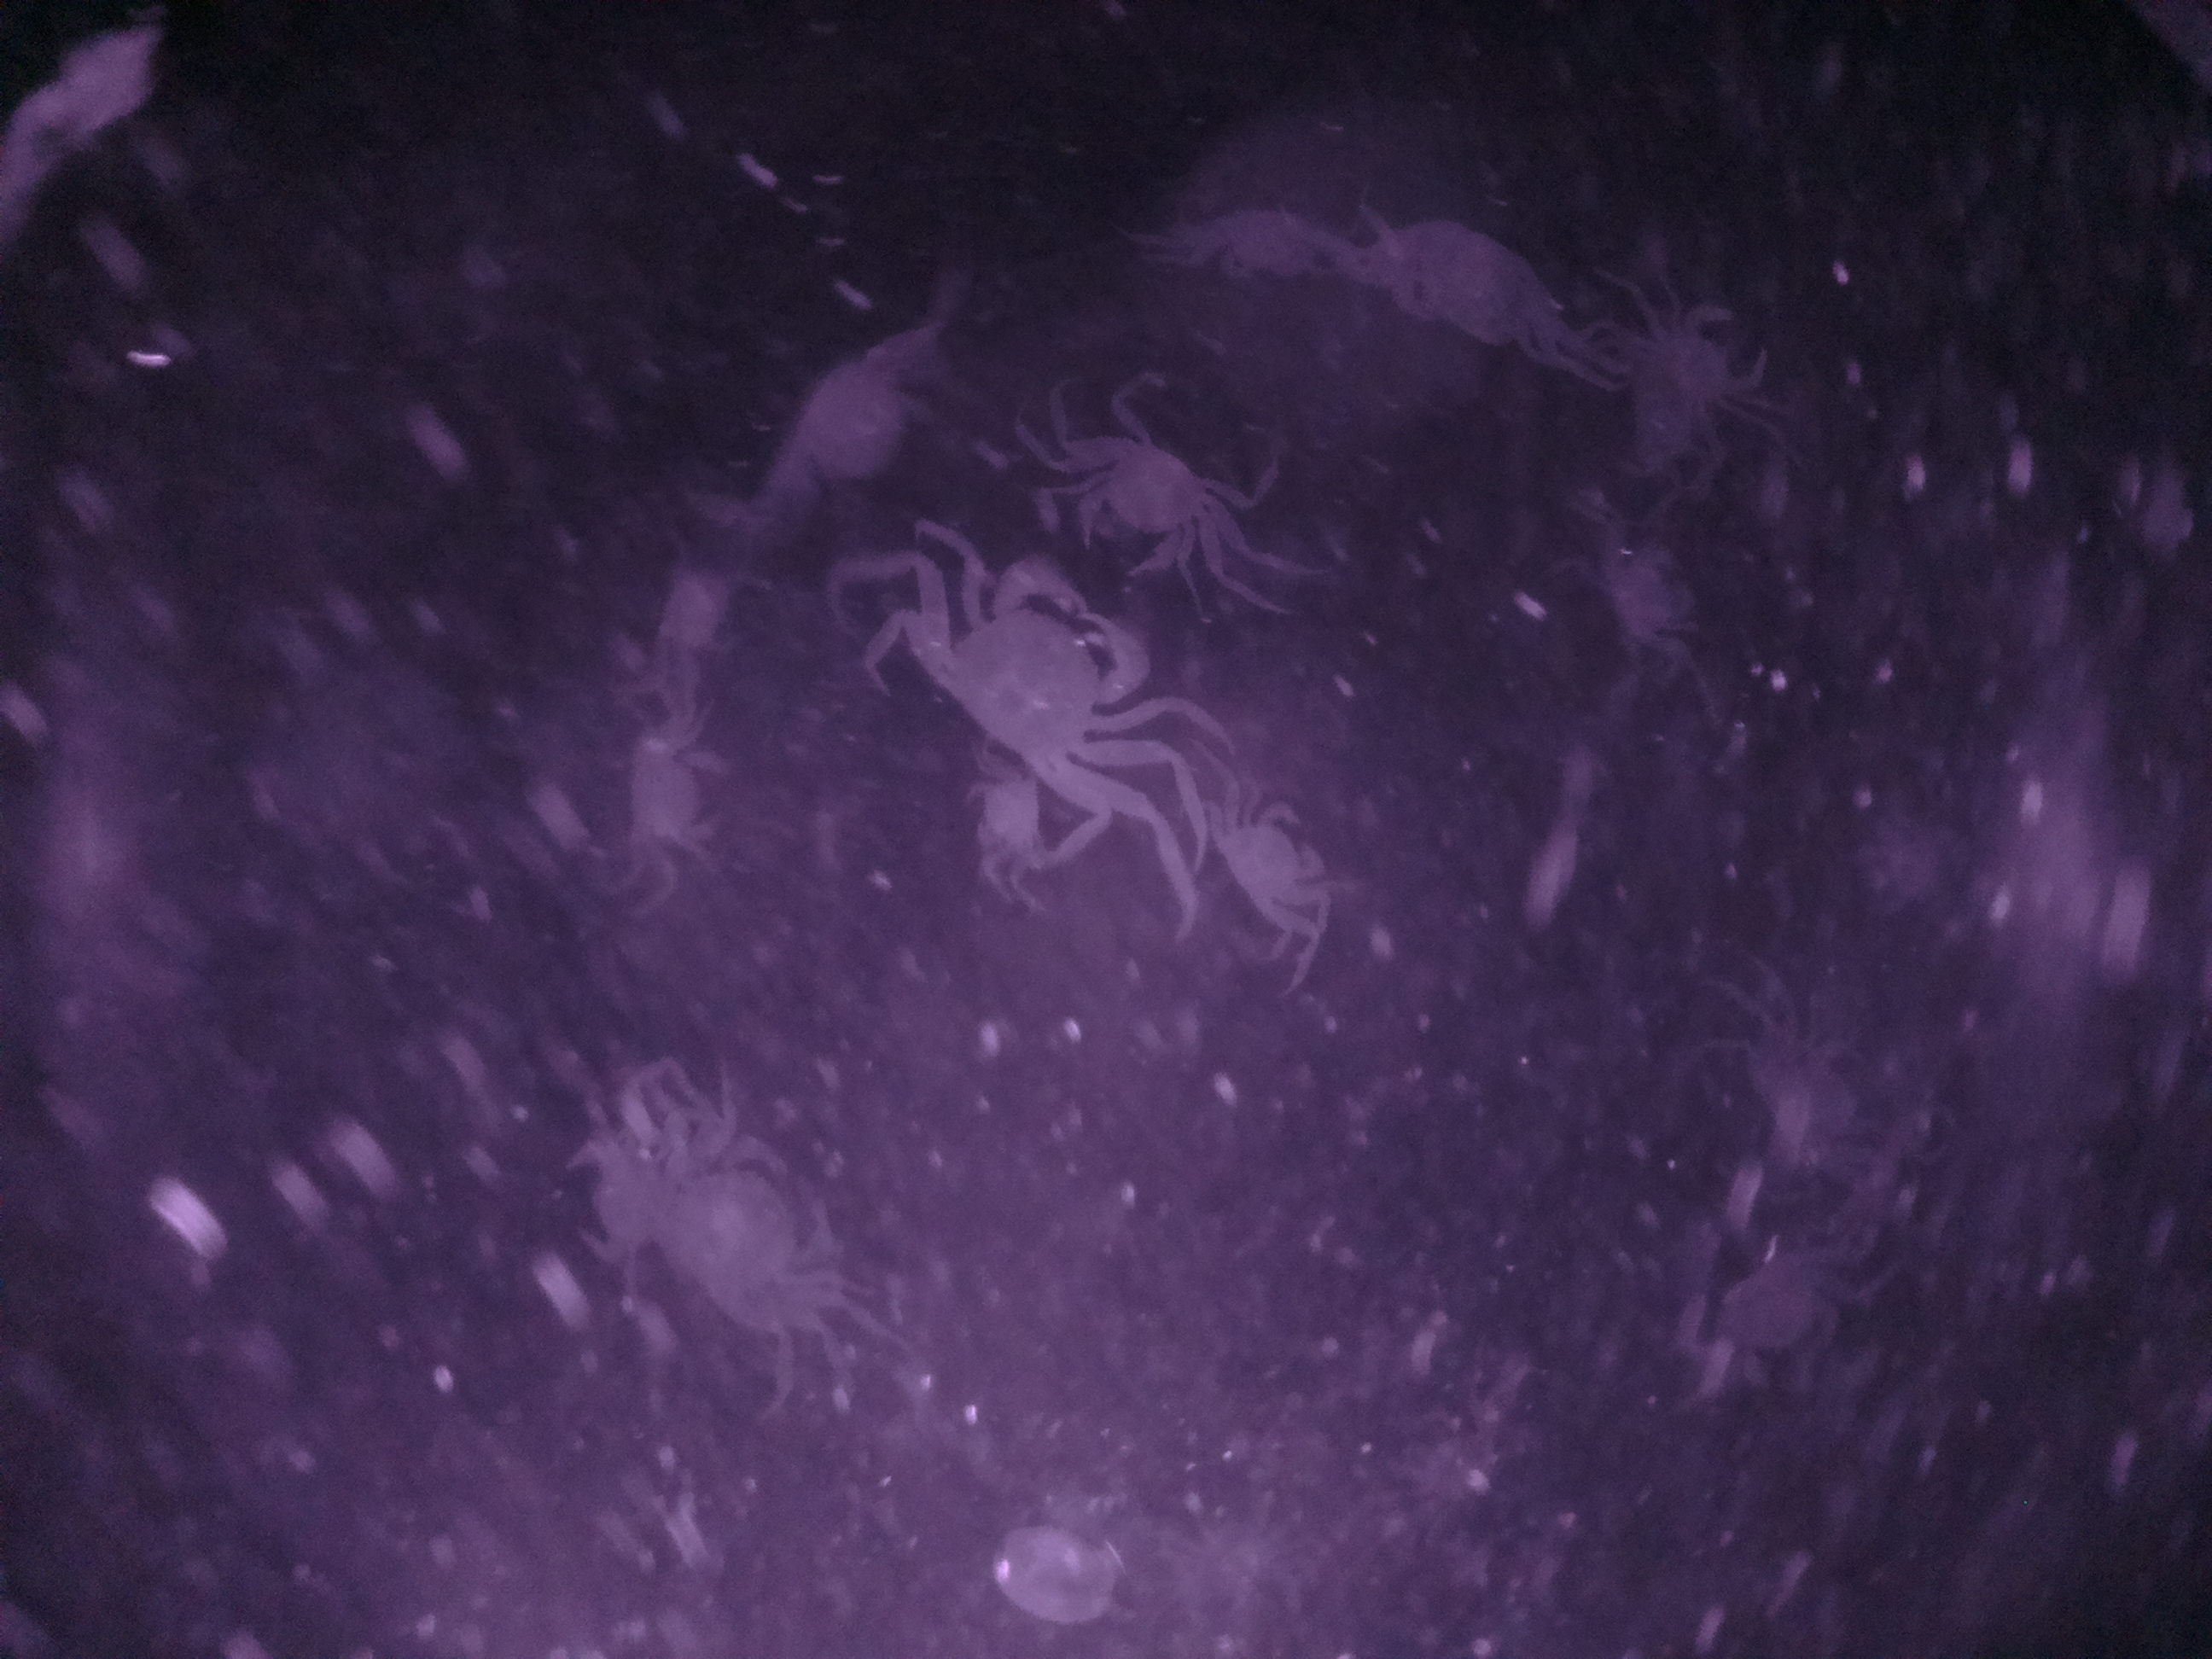Crab: (902, 540, 1176, 849), (1052, 410, 1233, 584), (1202, 788, 1341, 957)
